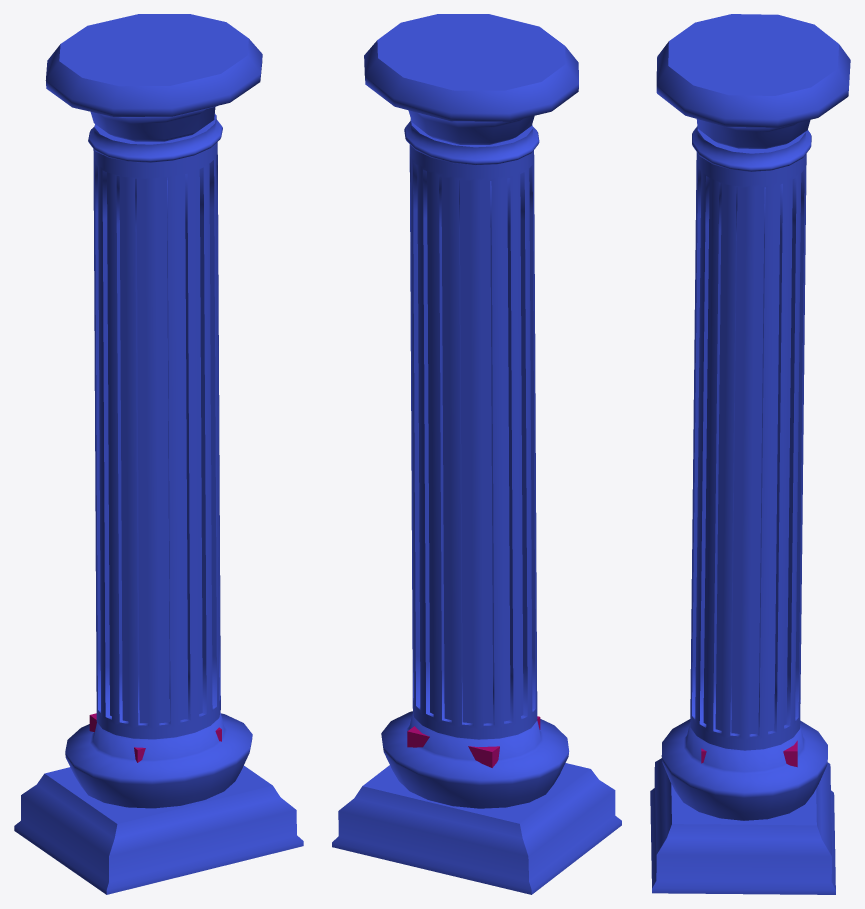
The model's file is temple_puzzle_prop.fbx.
The picture shows the model from 3 angles, left to right: view 1: azimuth 30°, elevation 25°; view 2: azimuth 150°, elevation 25°; view 3: azimuth 270°, elevation 25°; orthographic projection.
Parts seen in each view (by area): view 1: Temple_Pilliar_puzzle; view 2: Temple_Pilliar_puzzle, Temple_fence_puzzle; view 3: Temple_Pilliar_puzzle.
Part boxes in pixels (box(x1,y1,x2,y2)): Temple_Pilliar_puzzle: box(14, 14, 303, 894); Temple_Pilliar_puzzle: box(332, 14, 621, 894); Temple_fence_puzzle: box(407, 716, 540, 767); Temple_Pilliar_puzzle: box(650, 14, 850, 894).
Bounding box in the file's own units: 1939 × 7316 × 1676.
